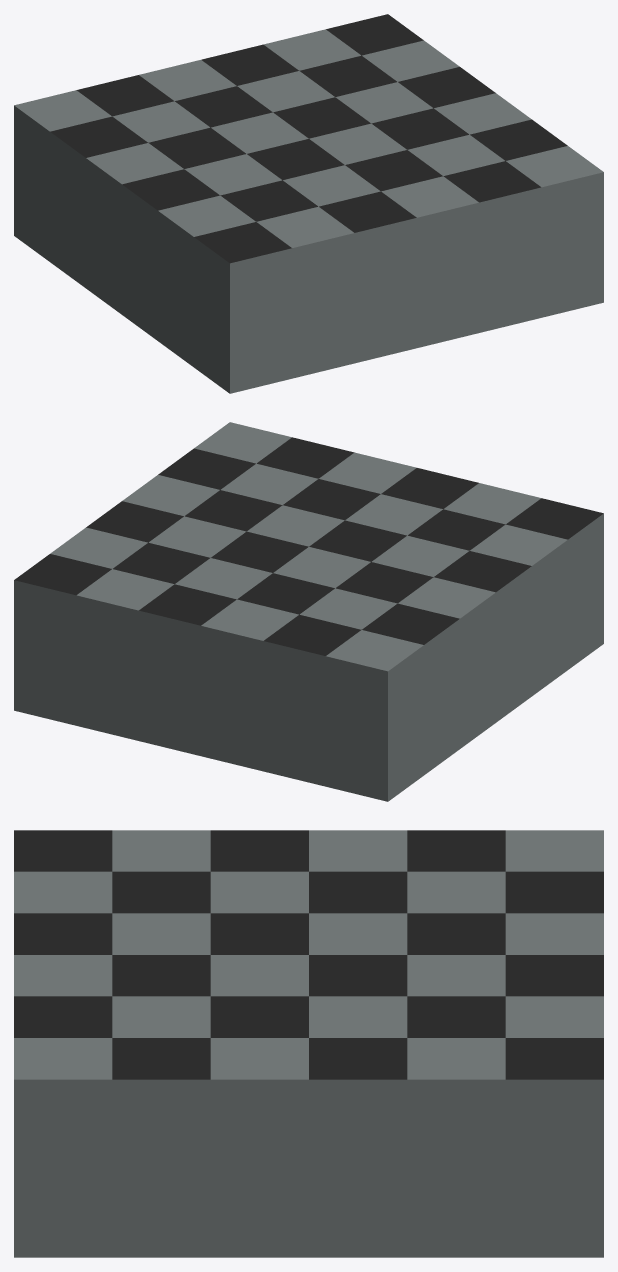
The model's file is platform.gltf.
The picture shows the model from 3 angles, top to bottom: view 1: azimuth 30°, elevation 25°; view 2: azimuth 150°, elevation 25°; view 3: azimuth 270°, elevation 25°; orthographic projection. The views are drawn at different scales.
Visible parts, largest first — view 1: mesh (×47); view 2: mesh (×47); view 3: mesh (×42).
Part boxes in pixels (x1,y1,x2,y2): mesh (×47): (14, 14, 603, 393); mesh (×47): (14, 422, 603, 801); mesh (×42): (14, 830, 603, 1257).
Bounding box in the file's own units: 6 × 2 × 6.
Materials: 1 (1 with a texture image).
